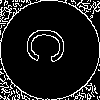C: (25, 25, 75, 67)
